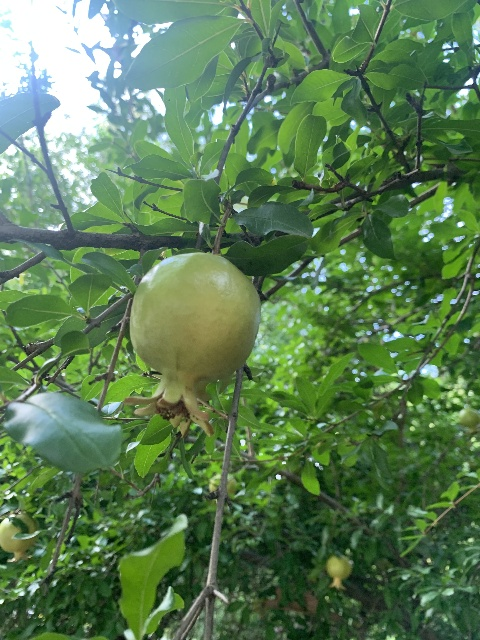mid-growth: (124, 252, 260, 438), (0, 513, 36, 564), (325, 554, 352, 590), (457, 409, 480, 434)
